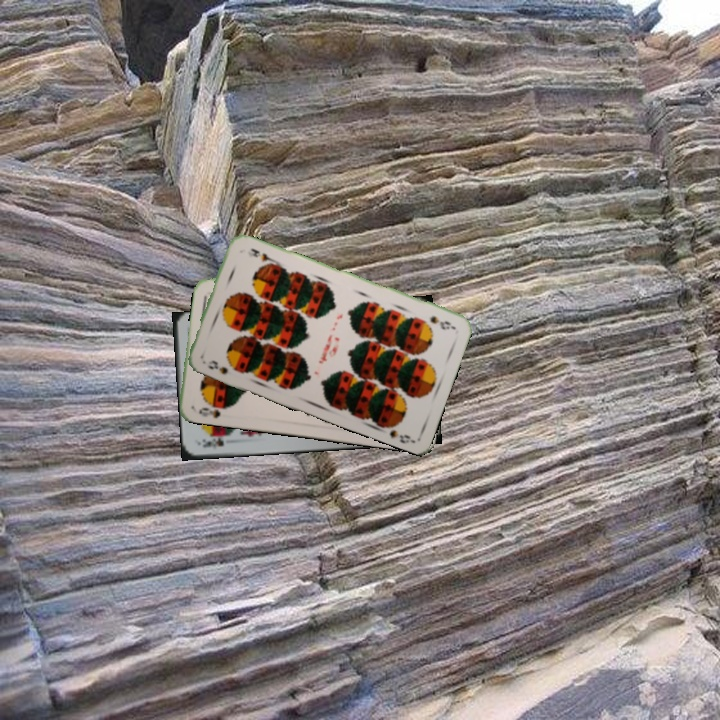S9: (204, 356, 240, 377), (426, 312, 457, 332)
SK: (199, 433, 226, 450)
SO: (194, 400, 234, 421)
